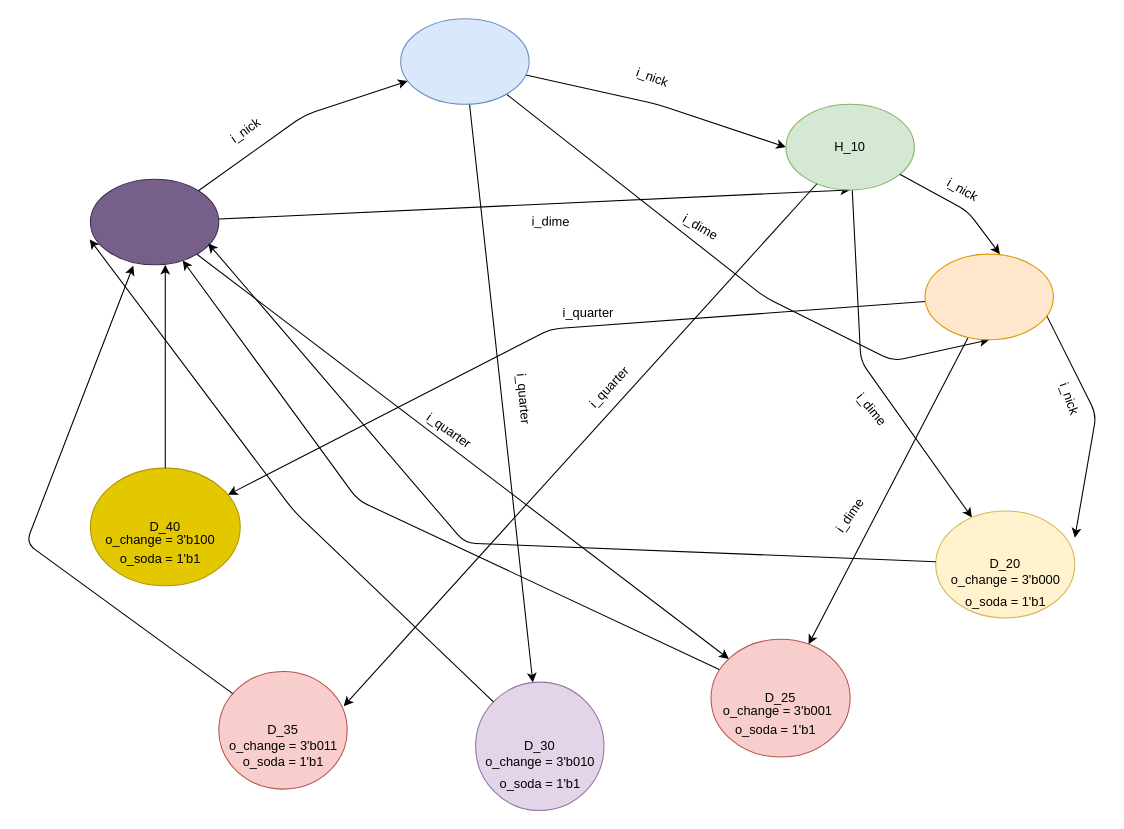
This 1124x829 diagram has some shape labels left out. Here are the shapes that lost their labels. From the top down, the centre of each, then its label:
At point 464,61: "H_5".
At point 154,221: "IDLE".
At point 988,296: "H_15".
